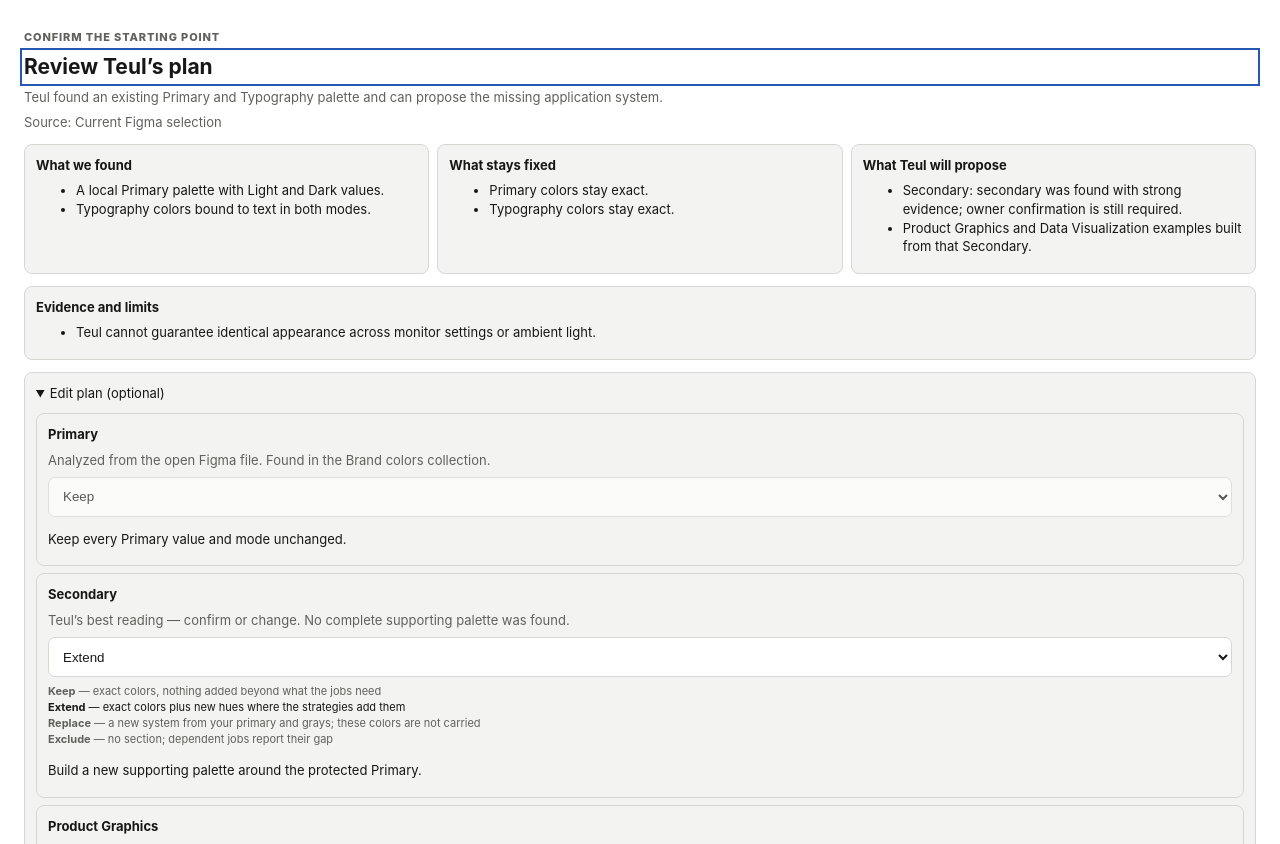
Test: ColorSystemGenericPlanReviewV2 › defines each choice under its label and states what a live Replace does not carry (p5-A)
Expected: the list named "What each choice does" shows "Keep — exact colors, nothing added beyond what the jobs need", [48, 684, 481, 746]
Expected: the list named "What each choice does" shows "Extend — exact colors plus new hues where the strategies add them", [48, 684, 481, 746]
Select "Replace" in the dropdown labelled "Secondary": coordinates (640, 657) [48, 637, 1232, 677]
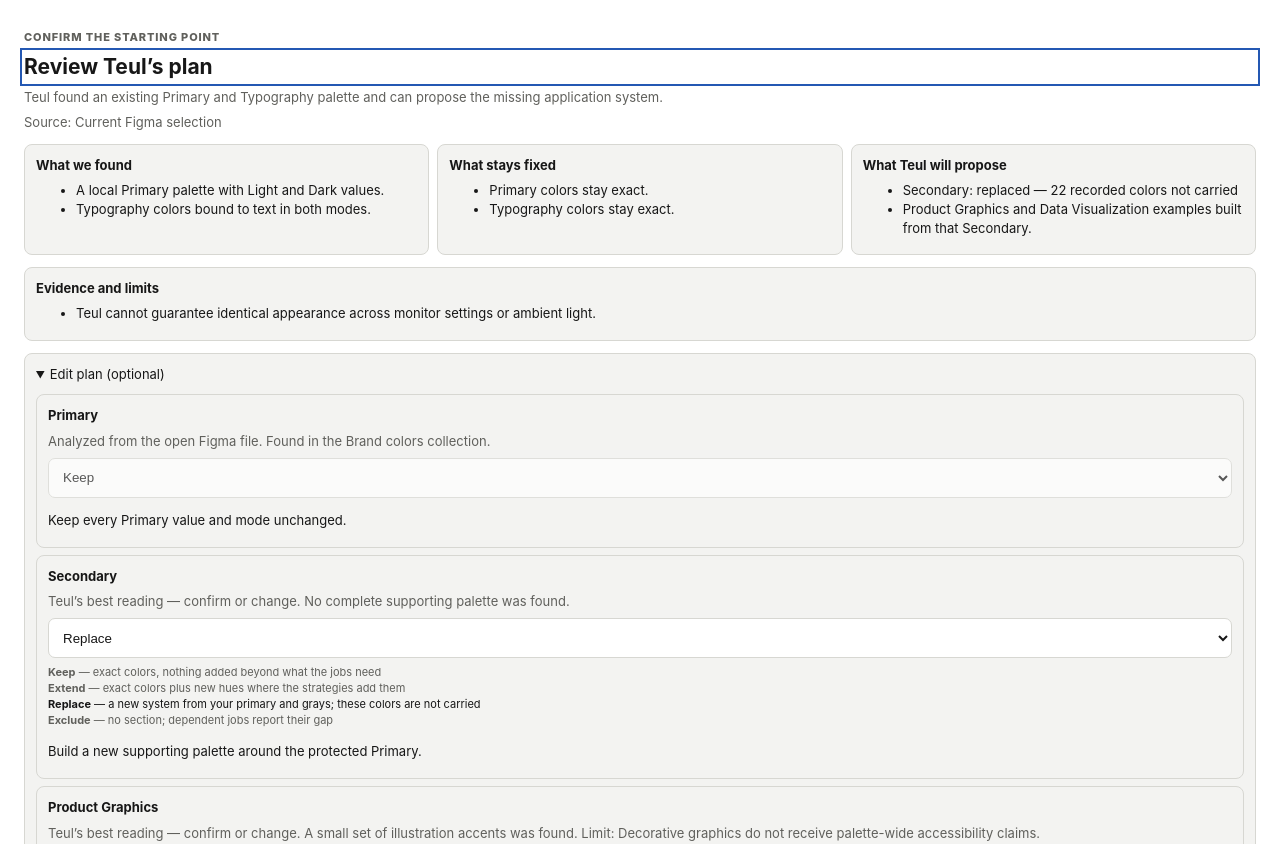
Expected: the list item that starts with "Replace" is shown, [48, 697, 91, 711]
Expected: the element named "What Teul will propose" shows "Secondary: replaced — 22 recorded colors not carried", [903, 182, 1238, 198]
Expected: the list item named "What Teul will propose" no longer shows "Secondary: secondary was found"
Select "Extend" in the dropdown labelled "Secondary": coordinates (640, 638) [48, 618, 1232, 658]
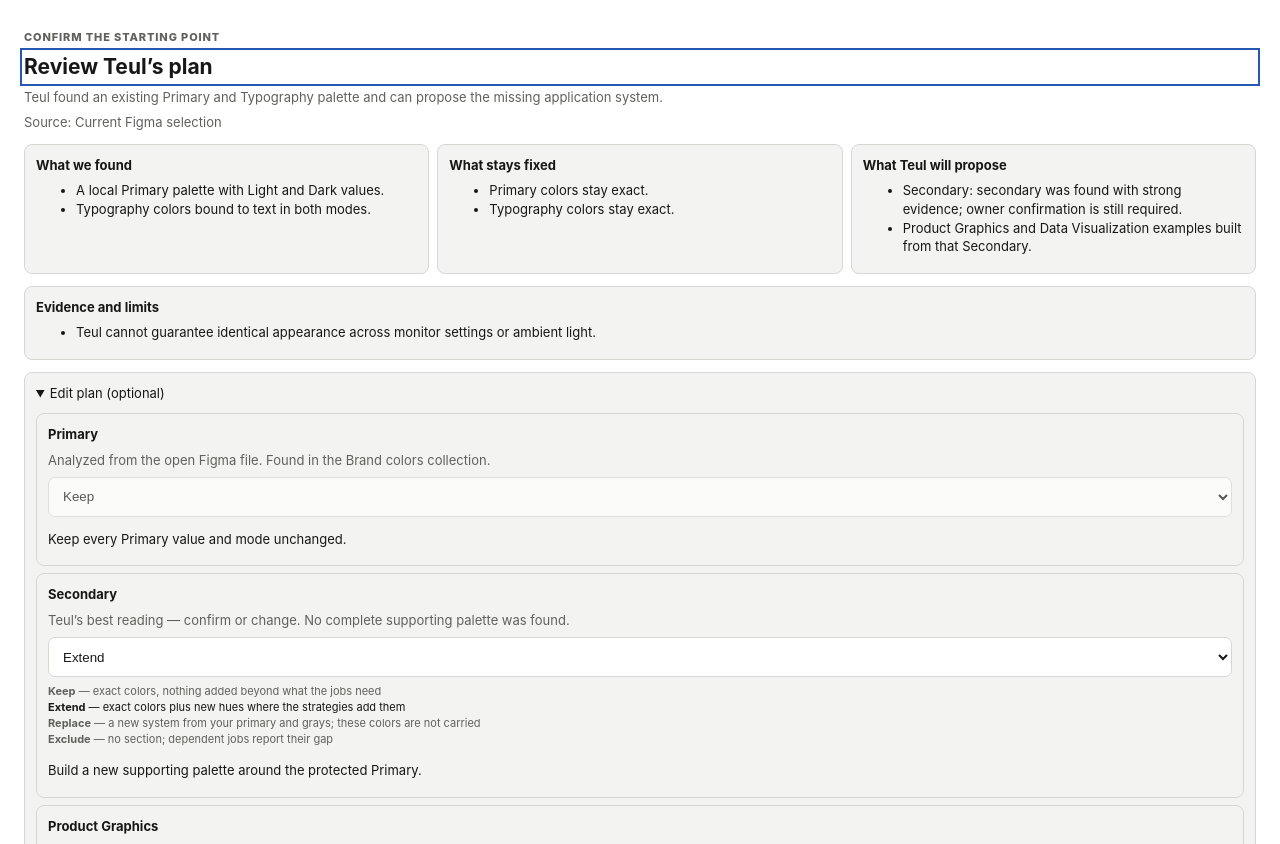
Expected: the element named "What Teul will propose" shows "Secondary: secondary was found", [903, 182, 1182, 217]
Expected: the list item named "What Teul will propose" no longer shows "replaced —"
